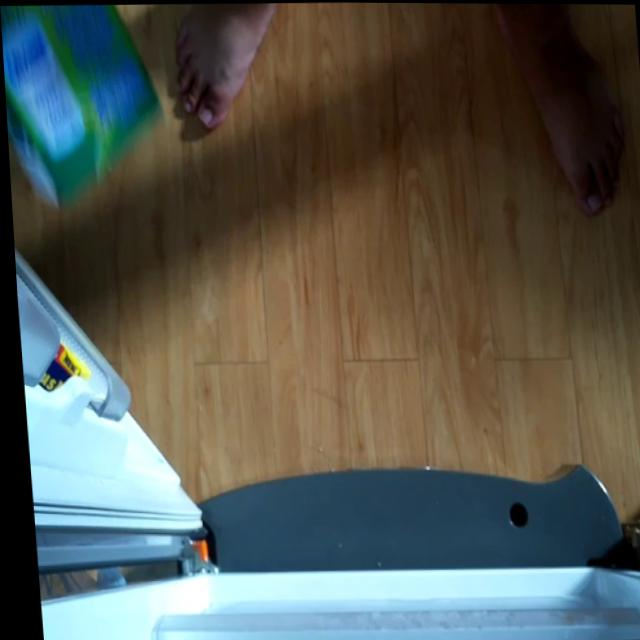milk: (0, 4, 167, 212)
